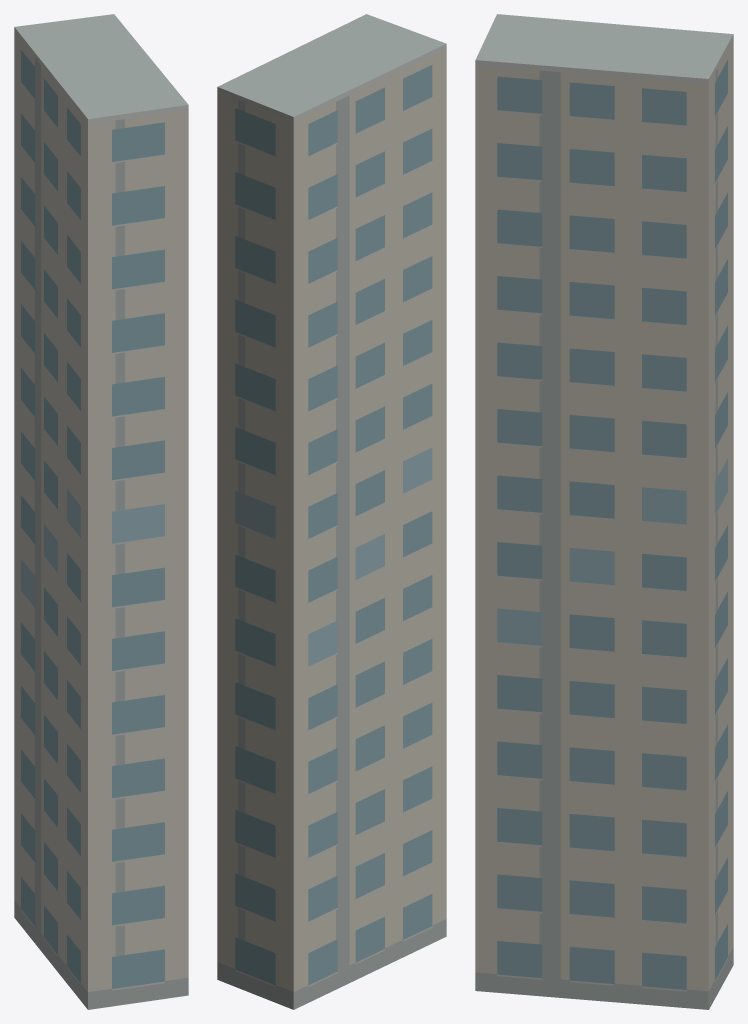
File: survey-upis-32908404.glb
3 views of the same model, side by side, from view 1: azimuth 30°, elevation 25°; view 2: azimuth 150°, elevation 25°; view 3: azimuth 270°, elevation 25° (orthographic). The views are drawn at different scales.
Visible parts, largest first — view 1: survey-upis-32908404.tmp; view 2: survey-upis-32908404.tmp; view 3: survey-upis-32908404.tmp.
Boxes of the visible parts, x1=… form: survey-upis-32908404.tmp: x1=14, y1=14, x2=188, y2=1009; survey-upis-32908404.tmp: x1=217, y1=14, x2=446, y2=1009; survey-upis-32908404.tmp: x1=475, y1=14, x2=733, y2=1009.
Bounding box in the file's own units: 6.4 × 42.7 × 10.74.
